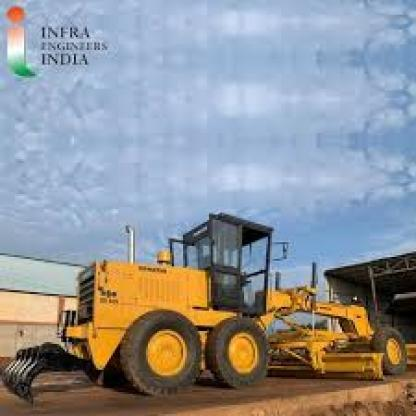bull_dozer/loader/grader: (4, 207, 414, 399)
